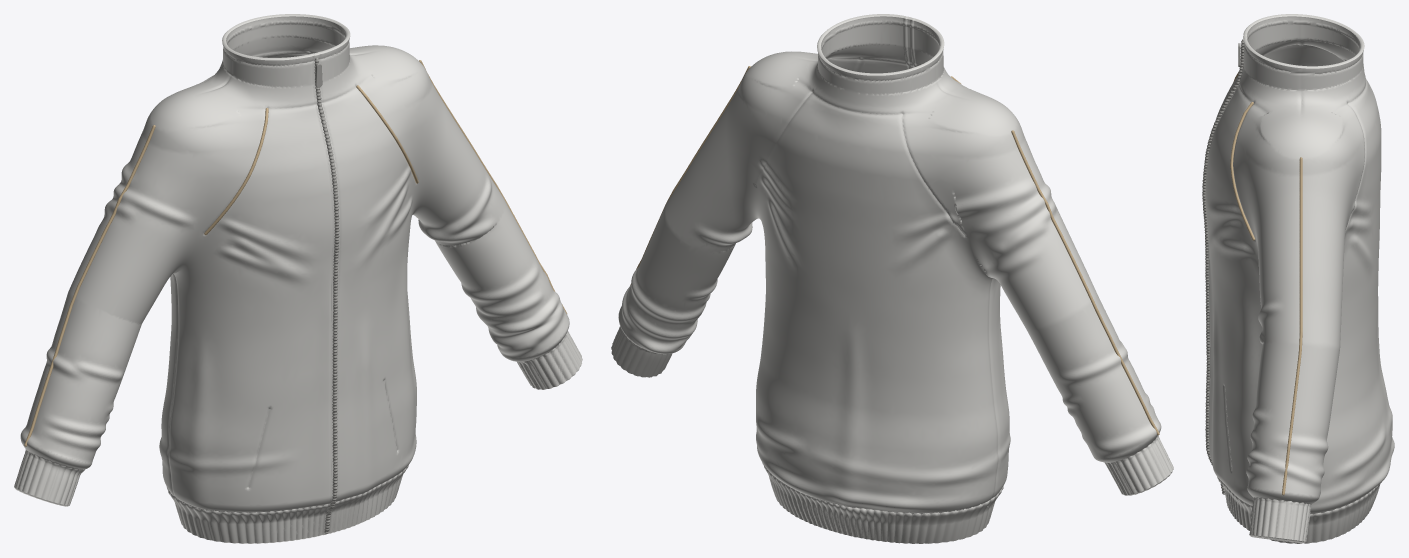
Rendered from 05_chaqueta_chandal.glb.
The picture shows the model from 3 angles, left to right: view 1: azimuth 30°, elevation 25°; view 2: azimuth 150°, elevation 25°; view 3: azimuth 270°, elevation 25°; orthographic projection. The views are drawn at different scales.
Parts seen in each view (by area): view 1: body, trim, zipper; view 2: body, trim; view 3: body, trim, zipper.
Part boxes in pixels (x1,y1,x2,y2): body: (14,14,582,543); trim: (24,60,567,446); zipper: (314,57,339,533); body: (611,14,1173,543); trim: (630,66,1159,435); body: (1205,14,1394,543); trim: (1230,72,1302,495); zipper: (1202,39,1244,494).
Size of the model in its own units: 0.9843 by 0.7987 by 0.3017.
